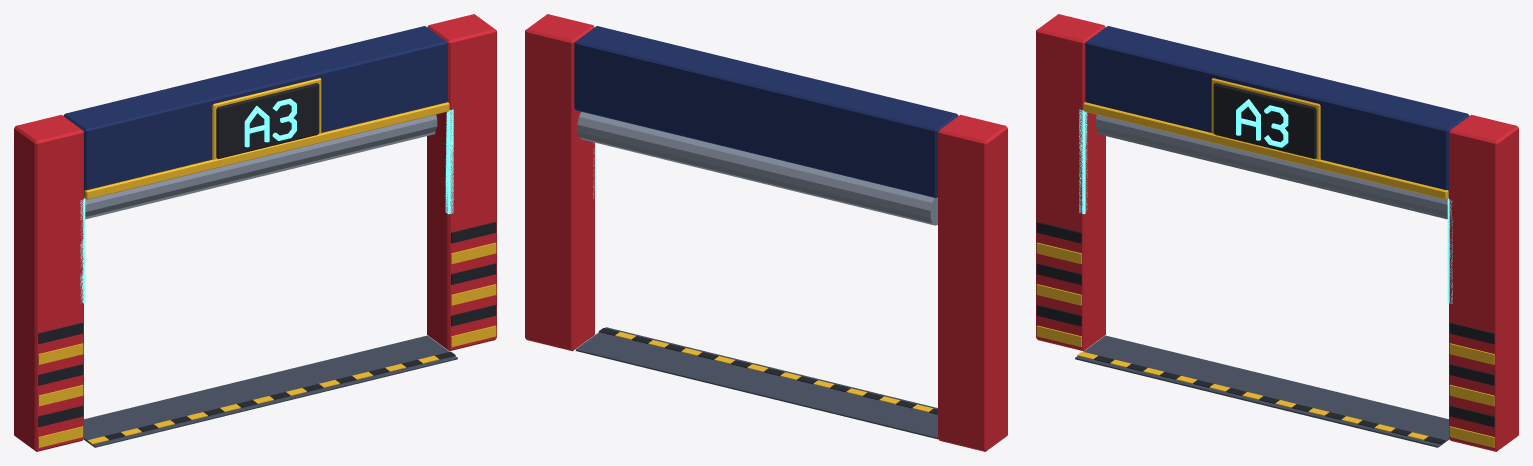
File: GarageFront_A3.fbx
3 views of the same model, side by side, from view 1: azimuth 30°, elevation 25°; view 2: azimuth 150°, elevation 25°; view 3: azimuth 330°, elevation 25° (orthographic).
Parts seen in each view (by area): view 1: GarageFront_A3, Neon_Cyan; view 2: GarageFront_A3; view 3: GarageFront_A3, Neon_Cyan.
Part boxes in pixels (left/top/right/bottom): GarageFront_A3: left=14, top=14, right=496, bottom=451; Neon_Cyan: left=80, top=98, right=453, bottom=303; GarageFront_A3: left=525, top=14, right=1007, bottom=451; GarageFront_A3: left=1036, top=14, right=1518, bottom=451; Neon_Cyan: left=1079, top=99, right=1452, bottom=303.
Bounding box in the file's own units: 28 × 18 × 3.53.
Materials: 2 (1 with a texture image).
